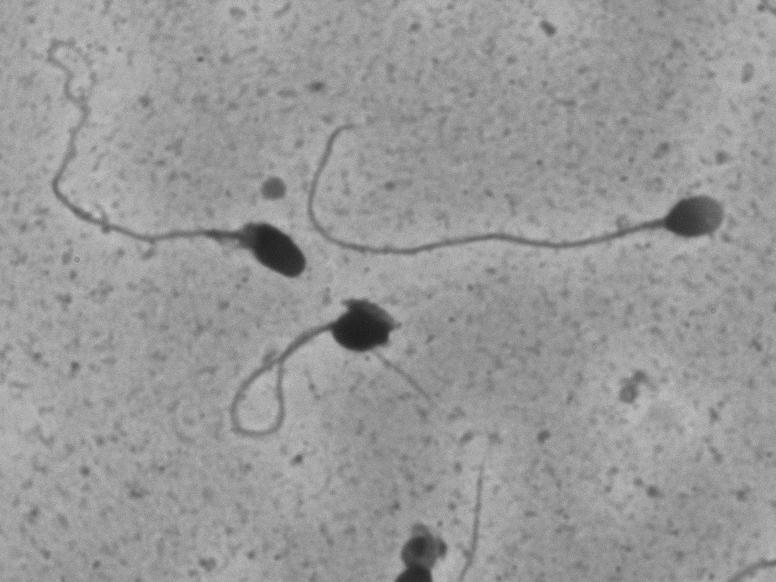Abnormal: (36, 24, 319, 282), (207, 289, 443, 468)
Normal: (293, 106, 750, 267)
